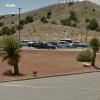Car: (25, 38, 61, 53)
